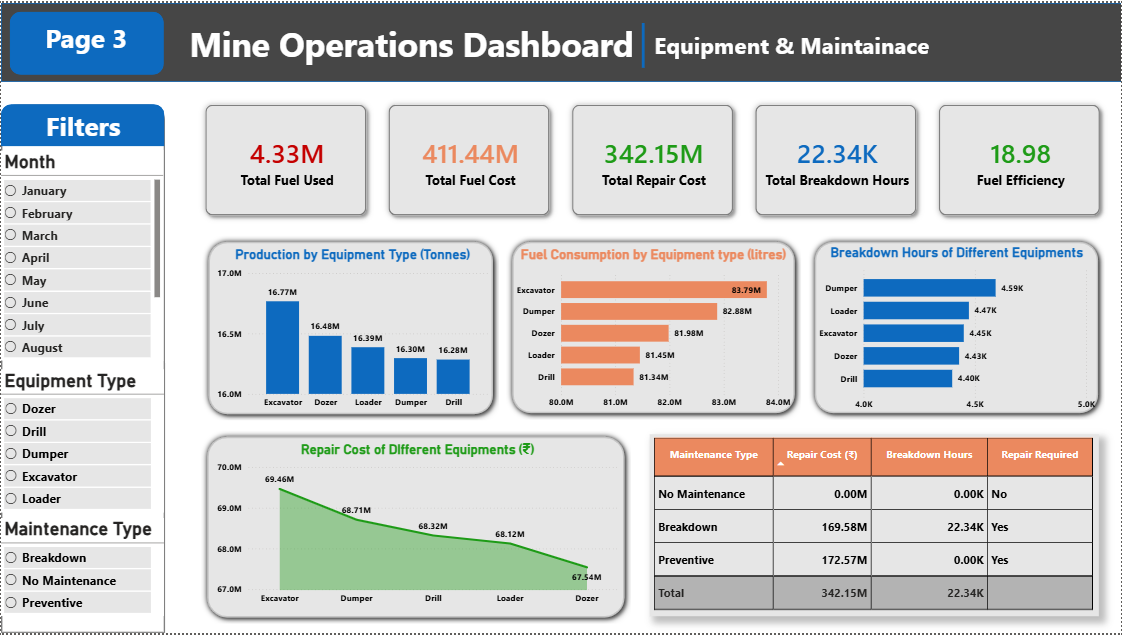

The dashboard page shown, as its layout file describes it:
{"tool":"powerbi","page":{"name":"Page 3","canvas":[1600,900],"ordinal":2},"visuals":[{"type":"shape","box":[0,0,1800,112.5],"z":0},{"type":"shape","box":[12,12,220,90],"z":1000},{"type":"textbox","box":[10,20,222,82],"z":2000},{"type":"textbox","box":[264,20,678,92],"z":3000},{"type":"shape","box":[722,28,392,64],"z":4000},{"type":"textbox","box":[928,34,498,80],"z":5000},{"type":"cardVisual","fields":{"Data":["public mine.Total Fuel","Sum(public mine.fuel_cost)","Sum(public mine.repair_cost)","Sum(public mine.breakdown_hours)","public mine.Fuel Efficiency"]},"box":[260,115,1340,220],"z":6000},{"type":"shape","box":[287.1,332.9,424.3,264.3],"z":7000},{"type":"columnChart","title":"Production by Equipment Type (Tonnes)","fields":{"Category":["public mine.equipment_type"],"Y":["Sum(public mine.actual_tonnes)"]},"box":[304.3,348.6,397.1,240],"z":8000},{"type":"shape","box":[1152.9,332.9,422.9,262.9],"z":9000},{"type":"shape","box":[721.4,332.9,421.4,262.9],"z":10000},{"type":"clusteredBarChart","title":"Fuel Consumption by Equipment type (litres)","fields":{"Y":["Sum(public mine.fuel_cost)"],"Category":["public mine.equipment_type"]},"box":[730,348.6,402.9,240],"z":11000},{"type":"shape","box":[286,610,614,276],"z":12000},{"type":"clusteredBarChart","title":"Breakdown Hours of Different Equipments","fields":{"Y":["Sum(public mine.breakdown_hours)"],"Category":["public mine.equipment_type"]},"box":[1163,344,406,247],"z":13000},{"type":"areaChart","title":"Repair Cost of DIfferent Equipments (₹)","fields":{"Category":["public mine.equipment_type"],"Y":["Sum(public mine.repair_cost)"]},"box":[303.8,625,582.5,242.5],"z":14000},{"type":"tableEx","fields":{"Values":["public mine.maintenance_type","Sum(public mine.repair_cost)","Sum(public mine.breakdown_hours)","public mine.repair_required"]},"box":[927.1,615.7,641.4,260],"z":15000},{"type":"shape","box":[0,144.4,234.4,755.6],"z":16000},{"type":"shape","box":[0,144.4,233.3,60],"z":17000},{"type":"listSlicer","title":"Maintenance Type","fields":{"Values":["public mine.maintenance_type"]},"box":[0,735,232.5,140],"z":18000},{"type":"listSlicer","title":"     Month","fields":{"Values":["public mine.date.Variation.Date Hierarchy.Month"]},"box":[0,210,232.3,300],"z":19000},{"type":"listSlicer","title":"Equipment Type","fields":{"Values":["public mine.equipment_type"]},"box":[0,522.5,232.5,205],"z":20000},{"type":"textbox","box":[0,145,235,65],"z":21000}]}

Visuals, with their boxes in screenshot pixels (x1, y1, x2, y2), scaled from the page's 1600x900 canvas onto the 1122x635 screenshot:
shape: {"left": 0, "top": 0, "right": 1121, "bottom": 79}
shape: {"left": 8, "top": 8, "right": 163, "bottom": 72}
textbox: {"left": 7, "top": 14, "right": 163, "bottom": 72}
textbox: {"left": 185, "top": 14, "right": 661, "bottom": 79}
shape: {"left": 506, "top": 20, "right": 781, "bottom": 65}
textbox: {"left": 651, "top": 24, "right": 1000, "bottom": 80}
cardVisual - public mine.Total Fuel x Sum(public mine.fuel_cost): {"left": 182, "top": 81, "right": 1121, "bottom": 236}
shape: {"left": 201, "top": 235, "right": 499, "bottom": 421}
"Production by Equipment Type (Tonnes)" columnChart: {"left": 213, "top": 246, "right": 492, "bottom": 415}
shape: {"left": 808, "top": 235, "right": 1105, "bottom": 420}
shape: {"left": 506, "top": 235, "right": 801, "bottom": 420}
"Fuel Consumption by Equipment type (litres)" clusteredBarChart: {"left": 512, "top": 246, "right": 794, "bottom": 415}
shape: {"left": 201, "top": 430, "right": 631, "bottom": 625}
"Breakdown Hours of Different Equipments" clusteredBarChart: {"left": 816, "top": 243, "right": 1100, "bottom": 417}
"Repair Cost of DIfferent Equipments (₹)" areaChart: {"left": 213, "top": 441, "right": 622, "bottom": 612}
tableEx - public mine.maintenance_type x Sum(public mine.repair_cost): {"left": 650, "top": 434, "right": 1100, "bottom": 618}
shape: {"left": 0, "top": 102, "right": 164, "bottom": 634}
shape: {"left": 0, "top": 102, "right": 164, "bottom": 144}
"Maintenance Type" listSlicer: {"left": 0, "top": 519, "right": 163, "bottom": 617}
"     Month" listSlicer: {"left": 0, "top": 148, "right": 163, "bottom": 360}
"Equipment Type" listSlicer: {"left": 0, "top": 369, "right": 163, "bottom": 513}
textbox: {"left": 0, "top": 102, "right": 165, "bottom": 148}
